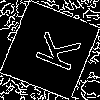K: (25, 25, 82, 74)
